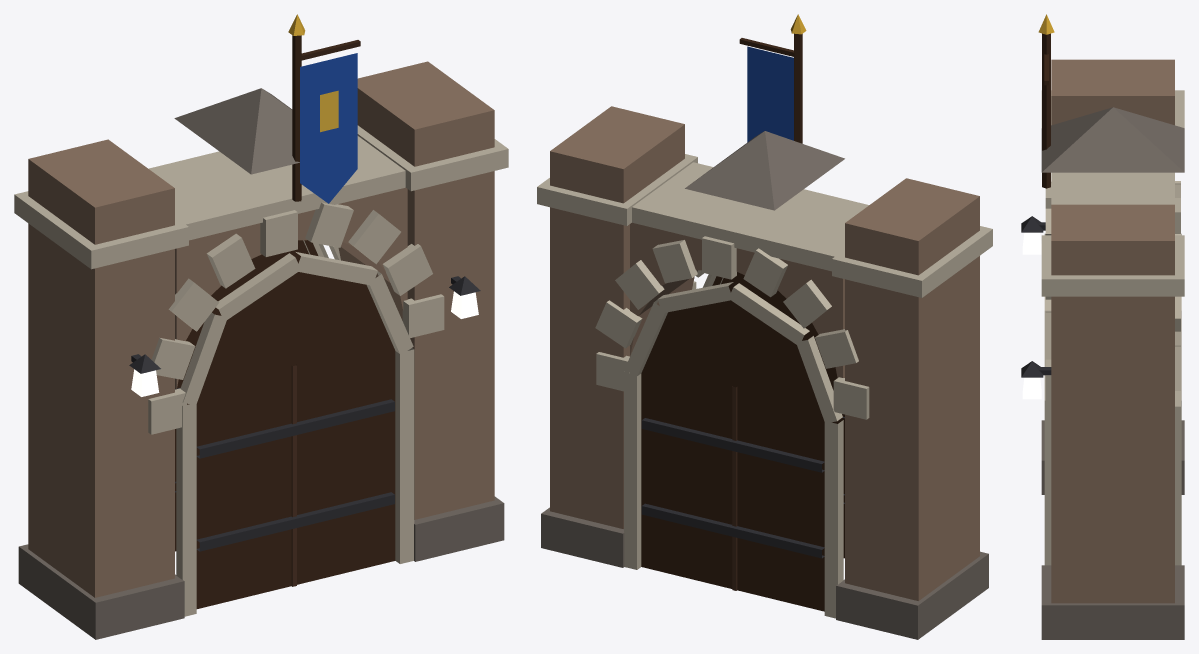
File: gate_small.fbx
3 views of the same model, side by side, from view 1: azimuth 30°, elevation 25°; view 2: azimuth 150°, elevation 25°; view 3: azimuth 270°, elevation 25° (orthographic). The views are drawn at different scales.
Parts seen in each view (by area): view 1: gate_small; view 2: gate_small; view 3: gate_small.
Part boxes in pixels (<box>): gate_small: <box>14,14,508,639</box>; gate_small: <box>537,14,992,639</box>; gate_small: <box>1021,14,1184,639</box>.
Bounding box in the file's own units: 4.7 × 6.18 × 1.72.
